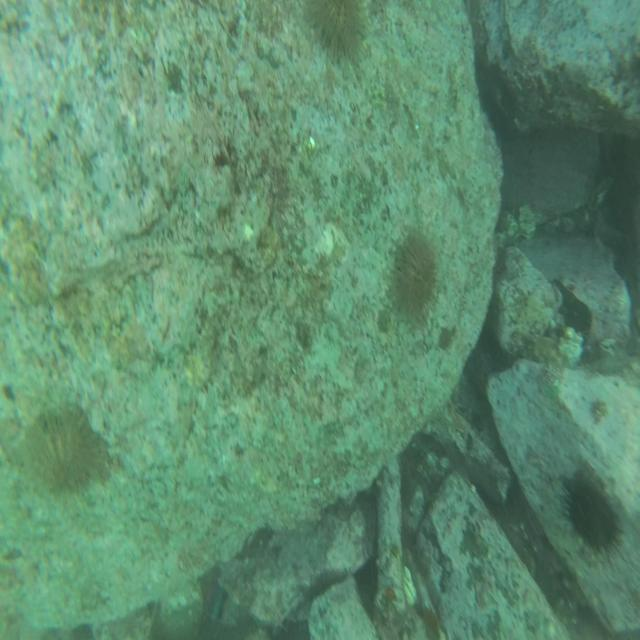echinus: (24, 412, 103, 492), (559, 468, 621, 557), (391, 226, 438, 320), (307, 1, 366, 62)
